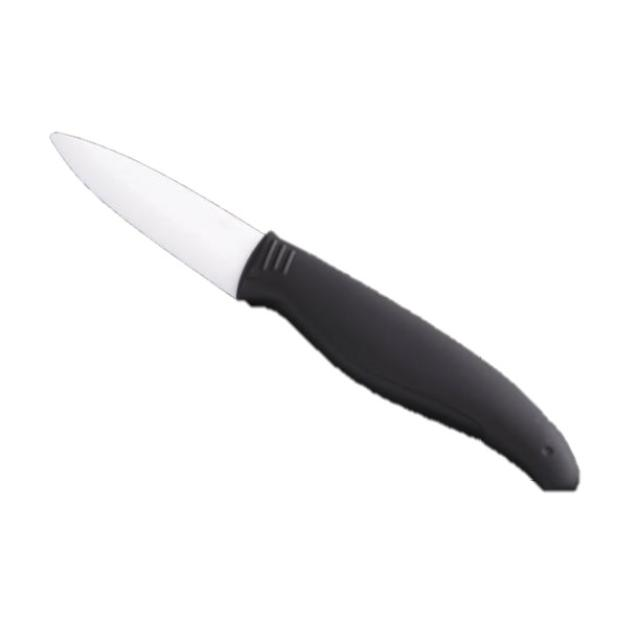knife: (45, 126, 589, 500)
